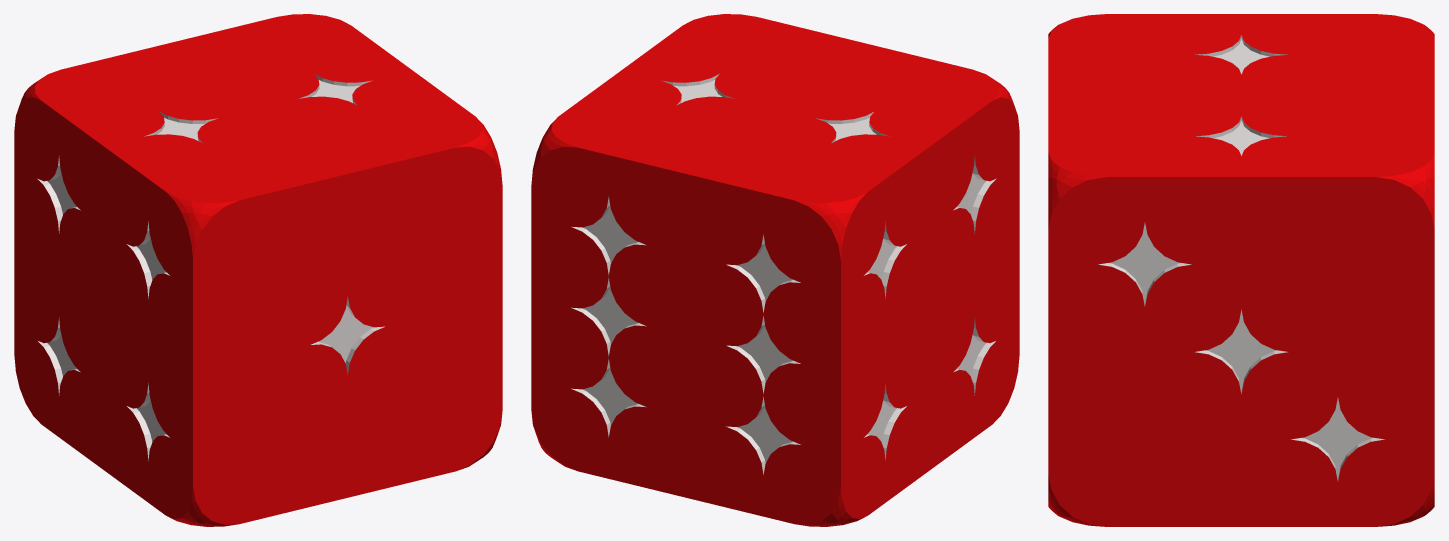
File: FichaPlaceHolder.glb
The picture shows the model from 3 angles, left to right: view 1: azimuth 30°, elevation 25°; view 2: azimuth 150°, elevation 25°; view 3: azimuth 270°, elevation 25°; orthographic projection. The views are drawn at different scales.
Parts seen in each view (by area): view 1: Cube; view 2: Cube; view 3: Cube.
Part boxes in pixels (x1,y1,x2,y2): Cube: (14,14,502,526); Cube: (531,14,1019,526); Cube: (1048,14,1434,526).
Size of the model in its own units: 0.0498 by 0.0498 by 0.0498.
